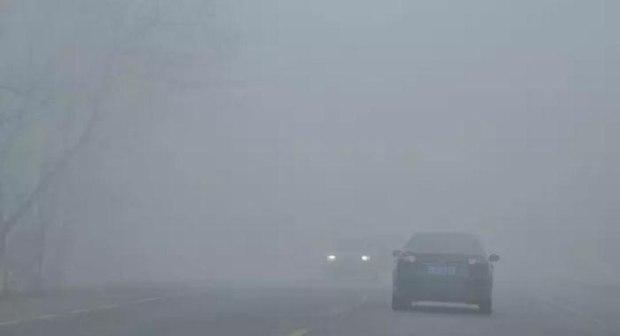car: (390, 230, 501, 315), (323, 235, 381, 281)
